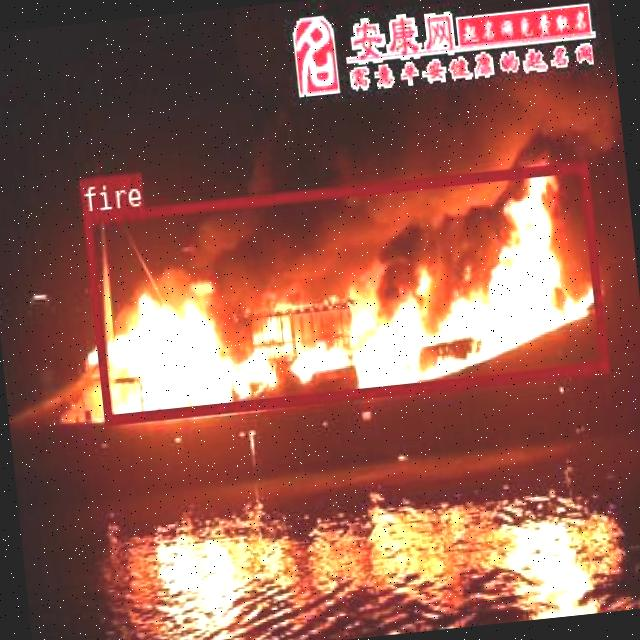fire: (82, 160, 607, 424)
